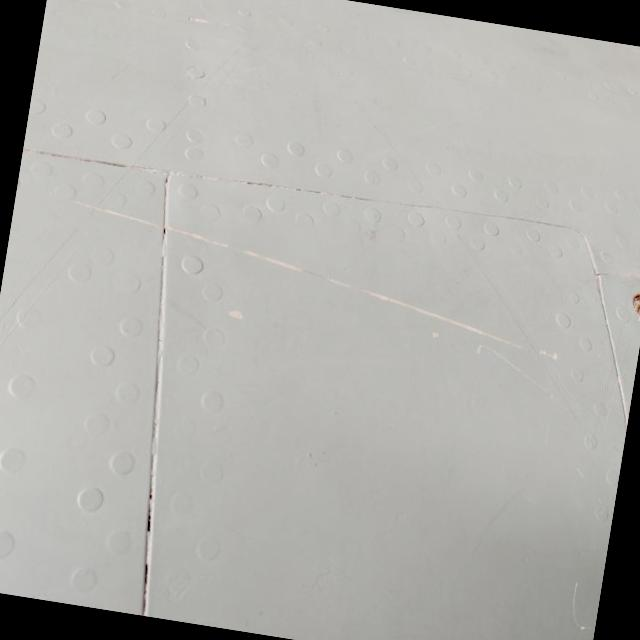scratch: (43, 155, 599, 383)
